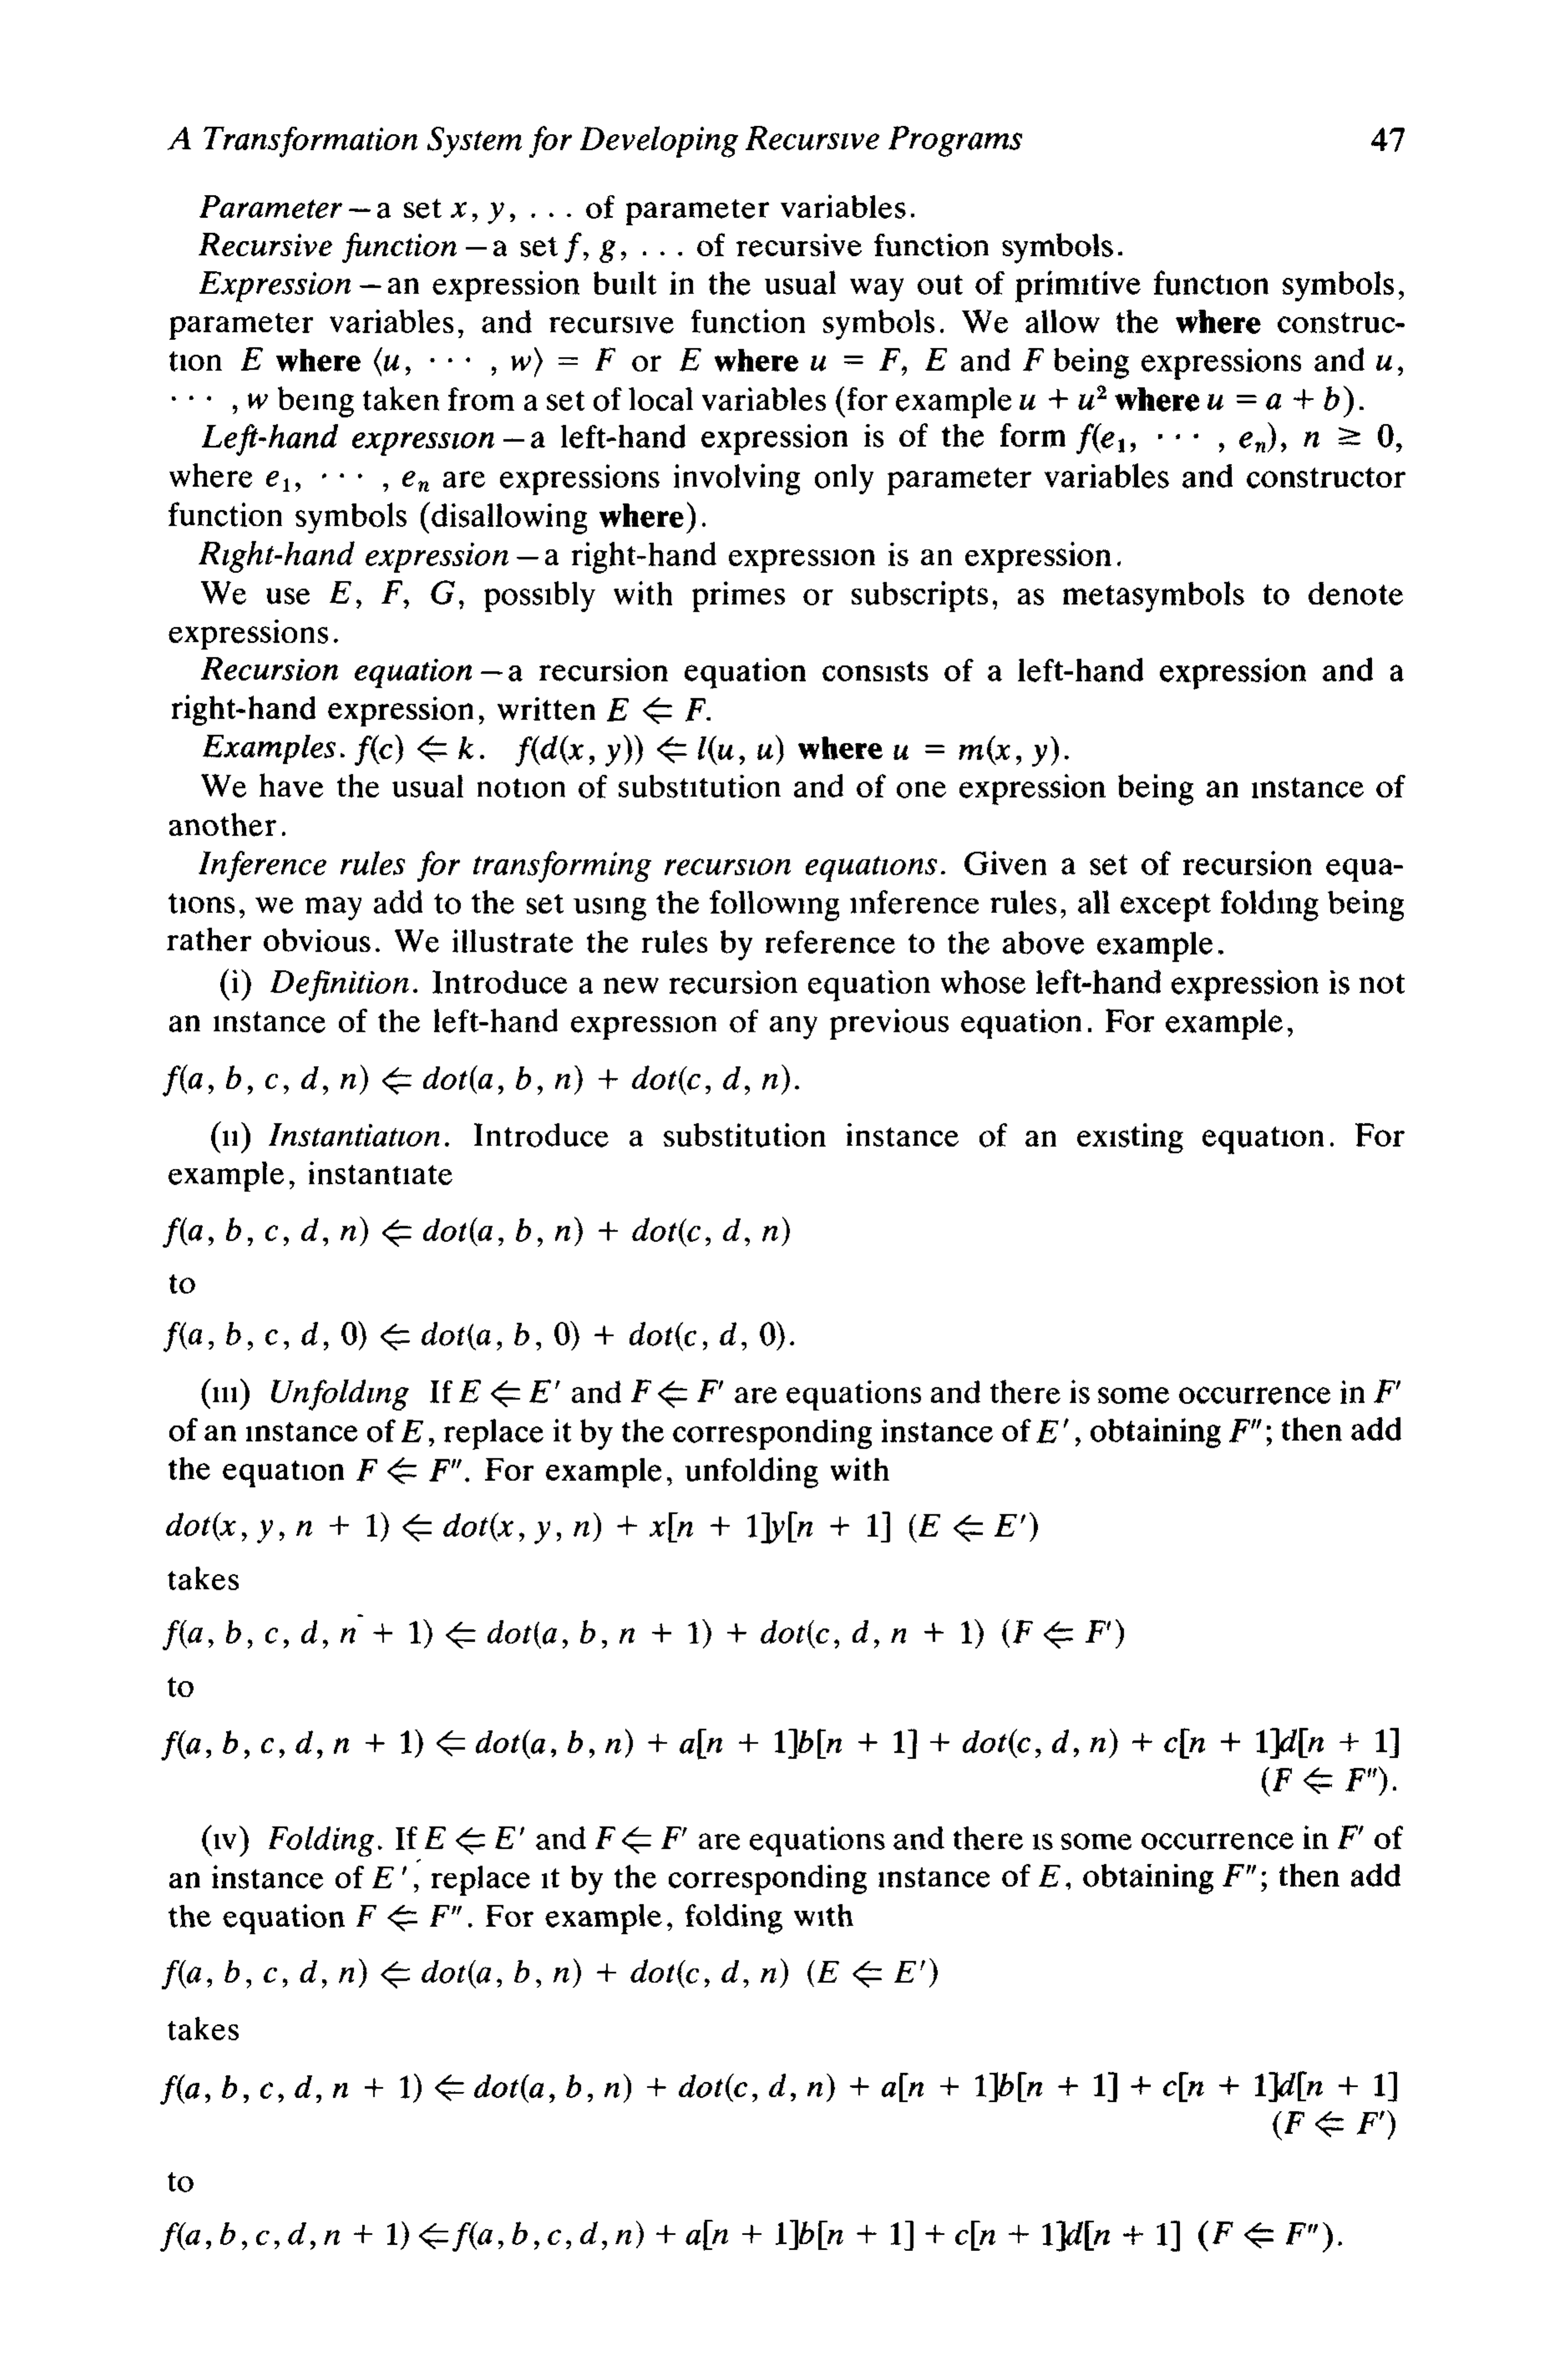maths: (161, 1728, 1398, 1796), (161, 2071, 1396, 2104), (161, 2219, 1332, 2252), (166, 1512, 1038, 1545), (163, 1620, 1124, 1650), (163, 1959, 939, 1989), (163, 1064, 790, 1096), (163, 1216, 790, 1248), (164, 1321, 785, 1353), (516, 736, 785, 767), (1077, 423, 1276, 456), (893, 736, 1059, 767), (1272, 2111, 1395, 2141), (355, 736, 474, 765), (1208, 386, 1339, 411), (510, 348, 615, 377), (460, 1379, 561, 1407), (425, 1826, 524, 1854), (631, 1379, 724, 1408), (357, 1457, 461, 1484), (811, 348, 907, 376), (606, 697, 706, 723), (596, 1826, 687, 1854), (357, 1905, 451, 1931), (1019, 384, 1106, 411), (1304, 425, 1393, 447), (374, 348, 411, 377), (362, 580, 402, 605), (1036, 1417, 1070, 1443), (372, 1866, 407, 1889), (1222, 1865, 1257, 1887), (1229, 1419, 1262, 1442), (1374, 1379, 1400, 1403), (1337, 1824, 1363, 1849), (432, 580, 454, 605), (565, 232, 582, 264), (402, 472, 430, 491), (925, 348, 947, 370), (1038, 1865, 1061, 1887), (680, 348, 701, 372), (1022, 348, 1043, 372), (241, 348, 262, 370), (330, 582, 351, 605), (402, 1419, 423, 1442), (266, 472, 290, 491), (488, 203, 505, 225), (599, 239, 615, 264), (248, 393, 267, 409), (451, 203, 467, 218), (1375, 355, 1391, 370), (531, 213, 572, 218), (322, 474, 362, 479), (643, 252, 682, 257), (430, 358, 470, 362), (171, 397, 211, 400)
